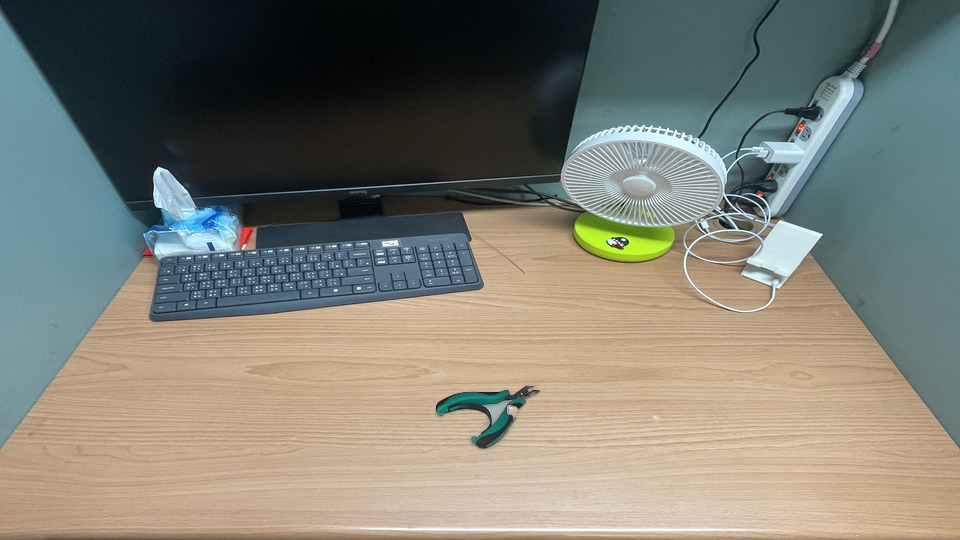blade: (252, 393, 354, 423)
round_grasp: (352, 366, 430, 411)
